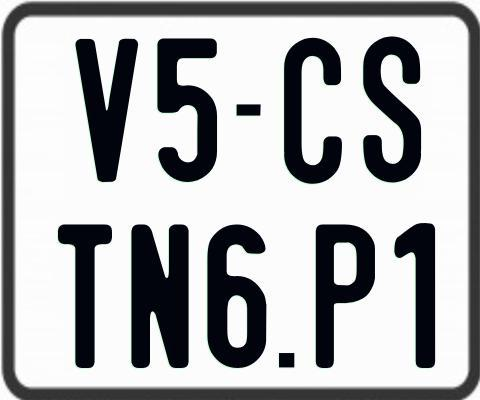1: (393, 223, 434, 369)
5: (157, 37, 217, 187)
6: (206, 225, 271, 371)
C: (284, 38, 342, 184)
N: (129, 222, 189, 370)
P: (314, 224, 379, 373)
S: (360, 34, 422, 185)
T: (58, 223, 118, 370)
V: (74, 37, 139, 181)
